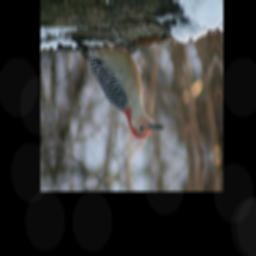Woodpecker: (72, 19, 166, 152)
